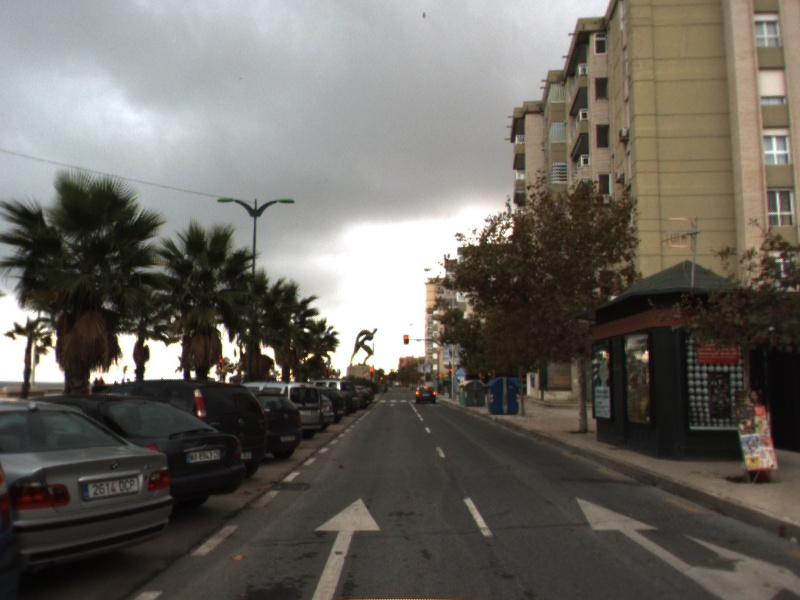STRAIGHT: (311, 496, 383, 600)
STRAIGHT_RIGHT: (574, 495, 800, 600)
